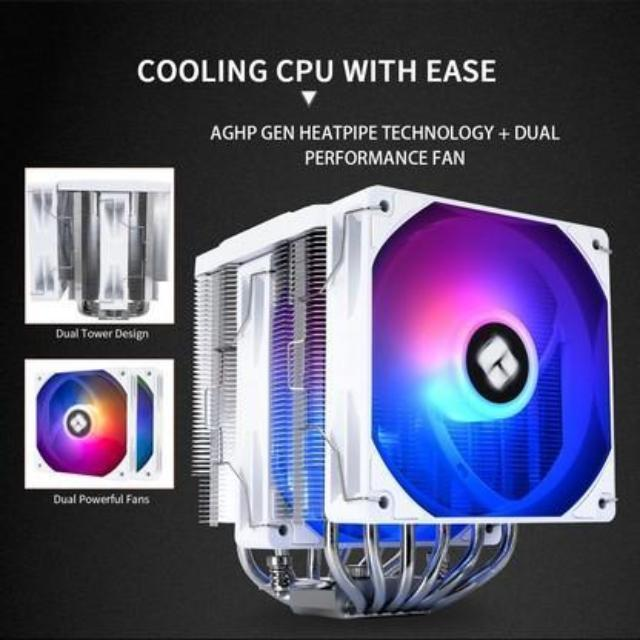CPU_Fan: (193, 178, 622, 618), (20, 354, 174, 494)
